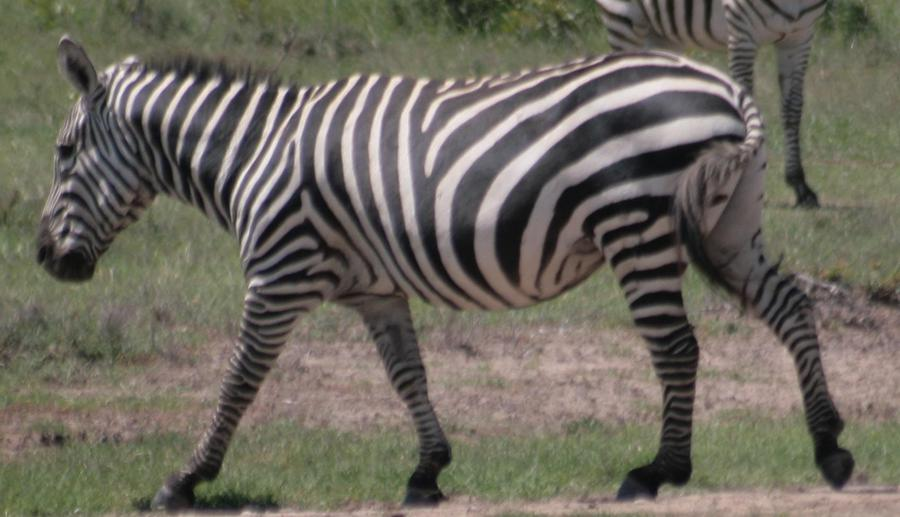zebra_plains: (210, 47, 733, 313)
